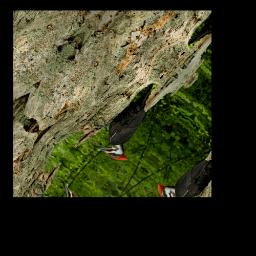Woodpecker: (81, 71, 180, 169)
